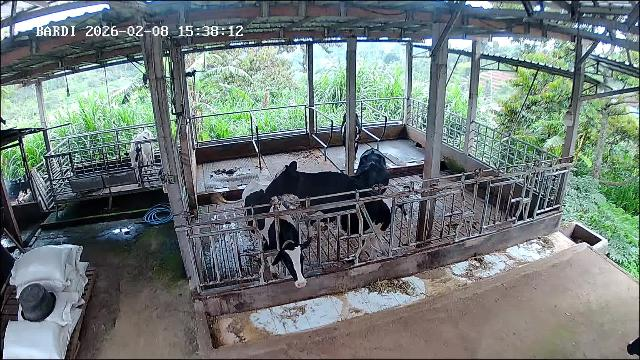mounting: (265, 157, 390, 261)
